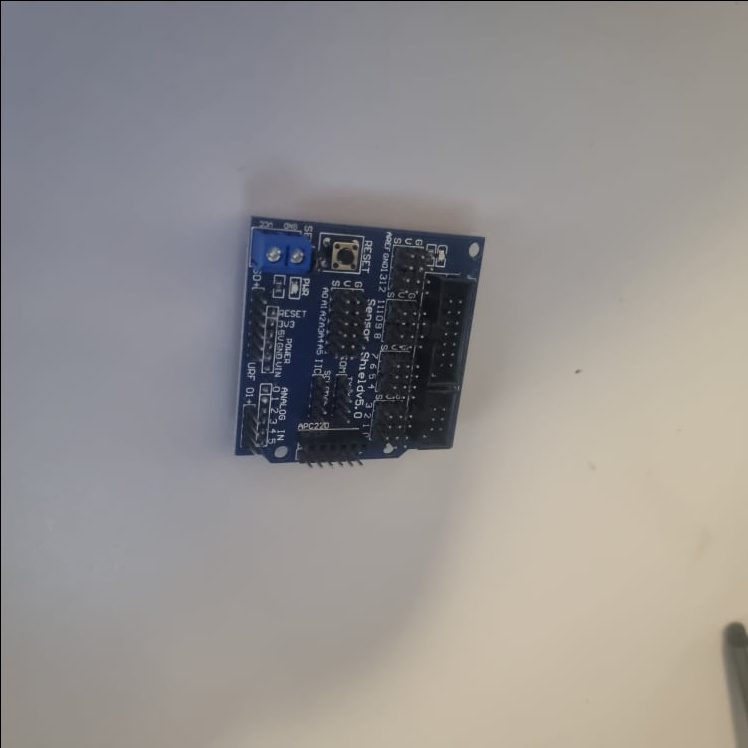5V EXPANSION: (233, 216, 485, 461)
